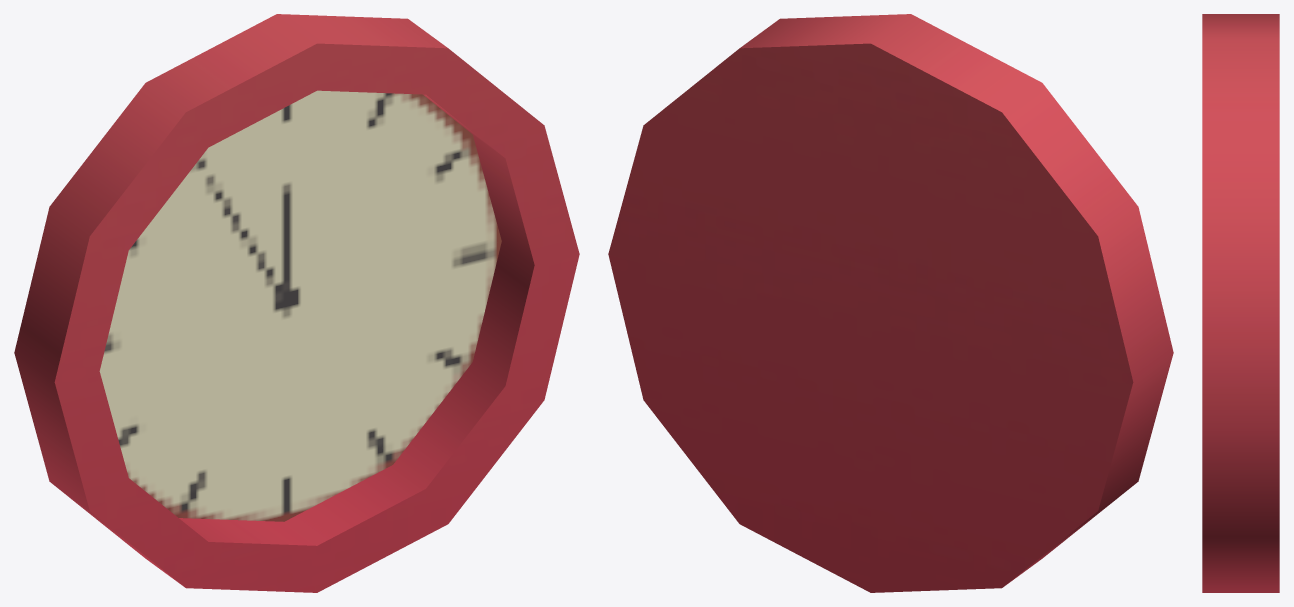
The model's file is SM_Clock_1_01.fbx.
3 views of the same model, side by side, from view 1: azimuth 30°, elevation 25°; view 2: azimuth 150°, elevation 25°; view 3: azimuth 270°, elevation 25° (orthographic). The views are drawn at different scales.
Visible parts, largest first — view 1: SM_Clock_1_01; view 2: SM_Clock_1_01; view 3: SM_Clock_1_01.
Part boxes in pixels (bbox=[...]): SM_Clock_1_01: bbox=[14, 14, 579, 592]; SM_Clock_1_01: bbox=[608, 14, 1173, 592]; SM_Clock_1_01: bbox=[1202, 14, 1279, 592].
Size of the model in its own units: 51.72 by 51.72 by 6.89.
